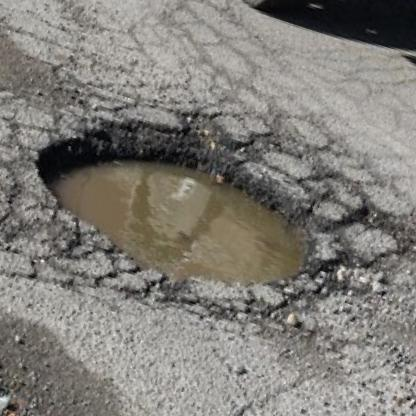pothole: (7, 91, 356, 331)
